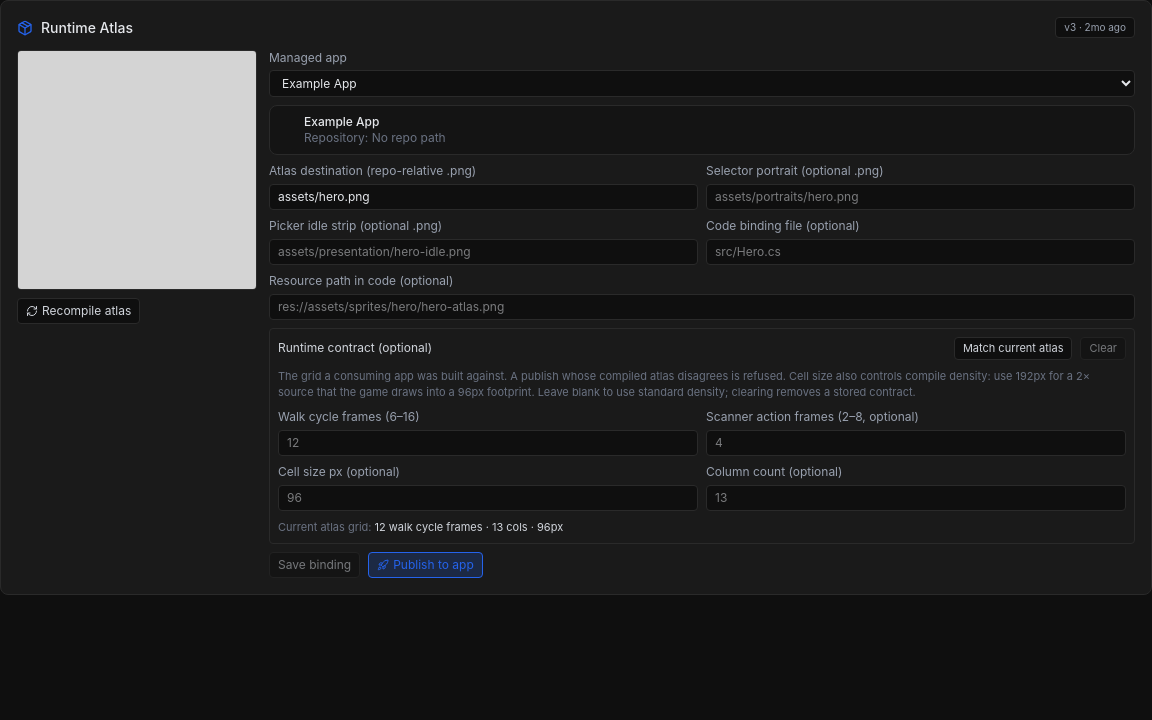
Test: PublishWorkflow runtime contract › rejects an out-of-range walk frame count and blocks the save
Step 1. Type "99" into the number field labelled "Walk cycle frames (6–16)" → (488, 442), box [278,430,698,456]
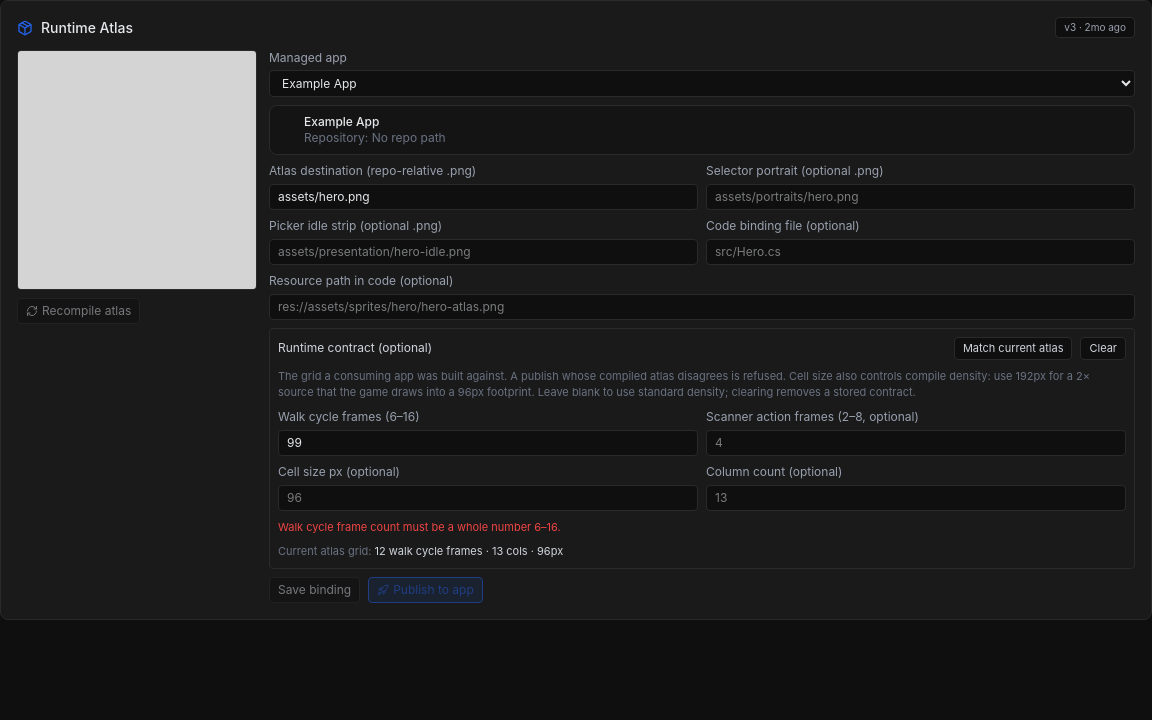
Expected: the button "Save binding" is disabled, [269,576,360,602]
Now the text "Walk cycle frame count must be a whole number 6–16." is shown, box [278,520,561,534]
